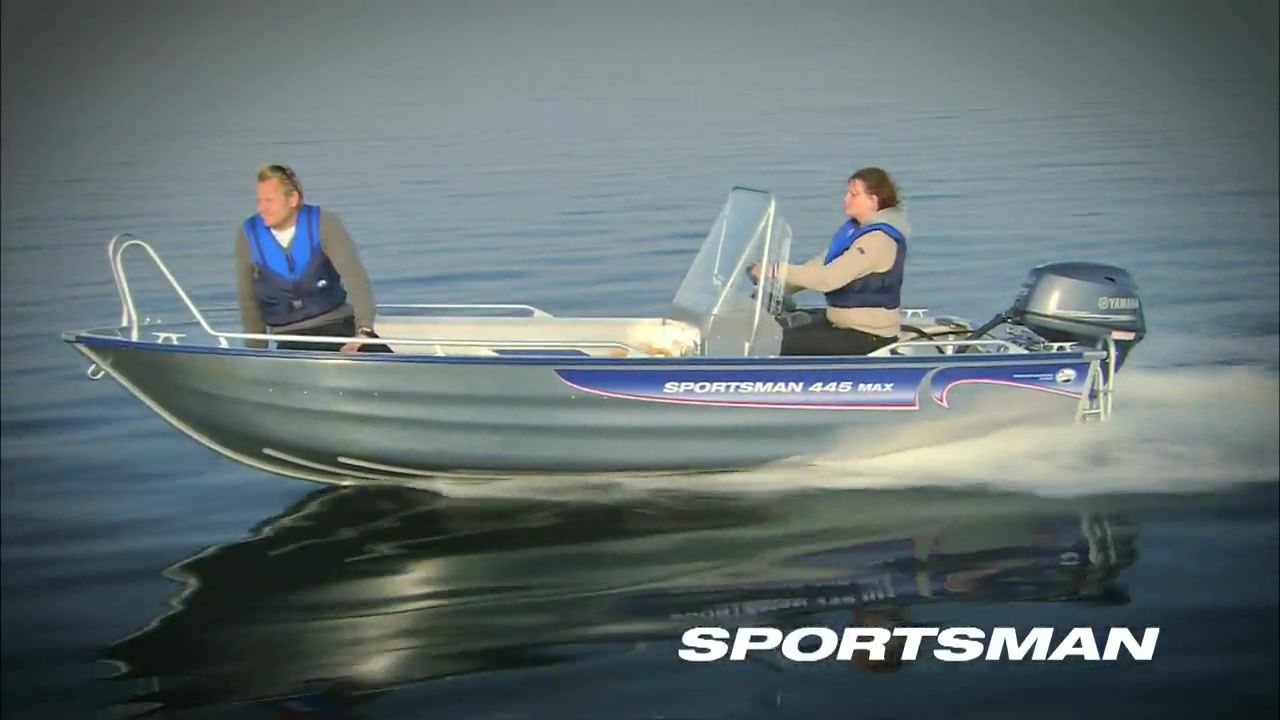boat: (70, 179, 1148, 503)
